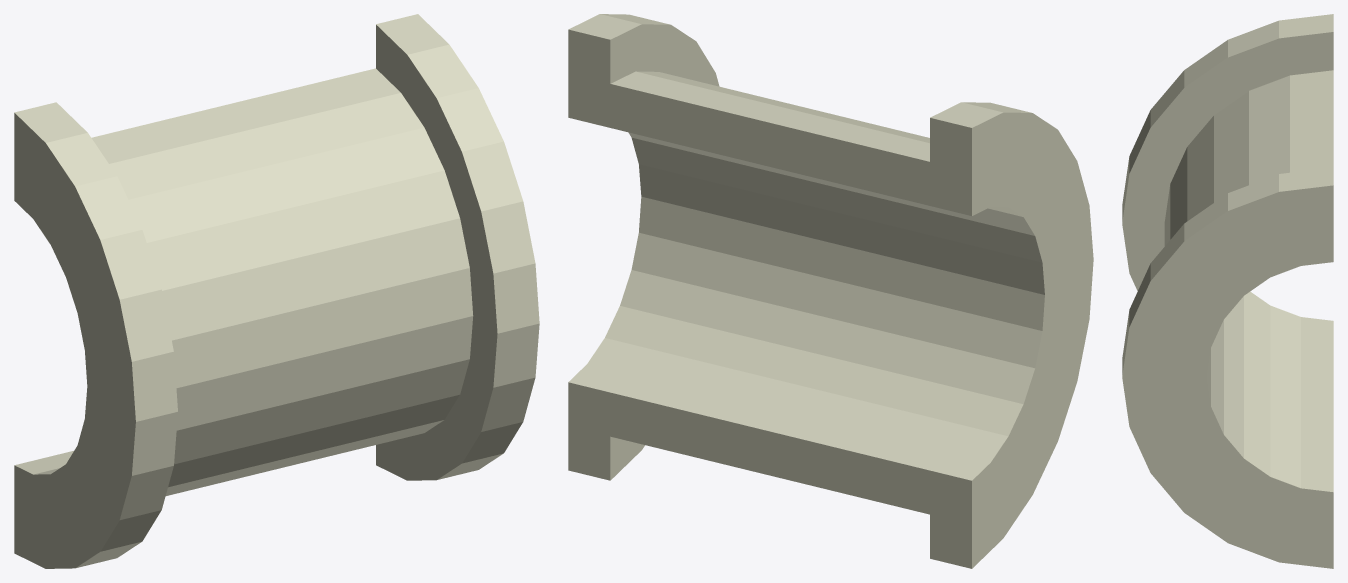
Rendered from section_126.obj.
The picture shows the model from 3 angles, left to right: view 1: azimuth 30°, elevation 25°; view 2: azimuth 150°, elevation 25°; view 3: azimuth 270°, elevation 25°; orthographic projection. The views are drawn at different scales.
Size of the model in its own units: 9.58 by 10 by 5.
